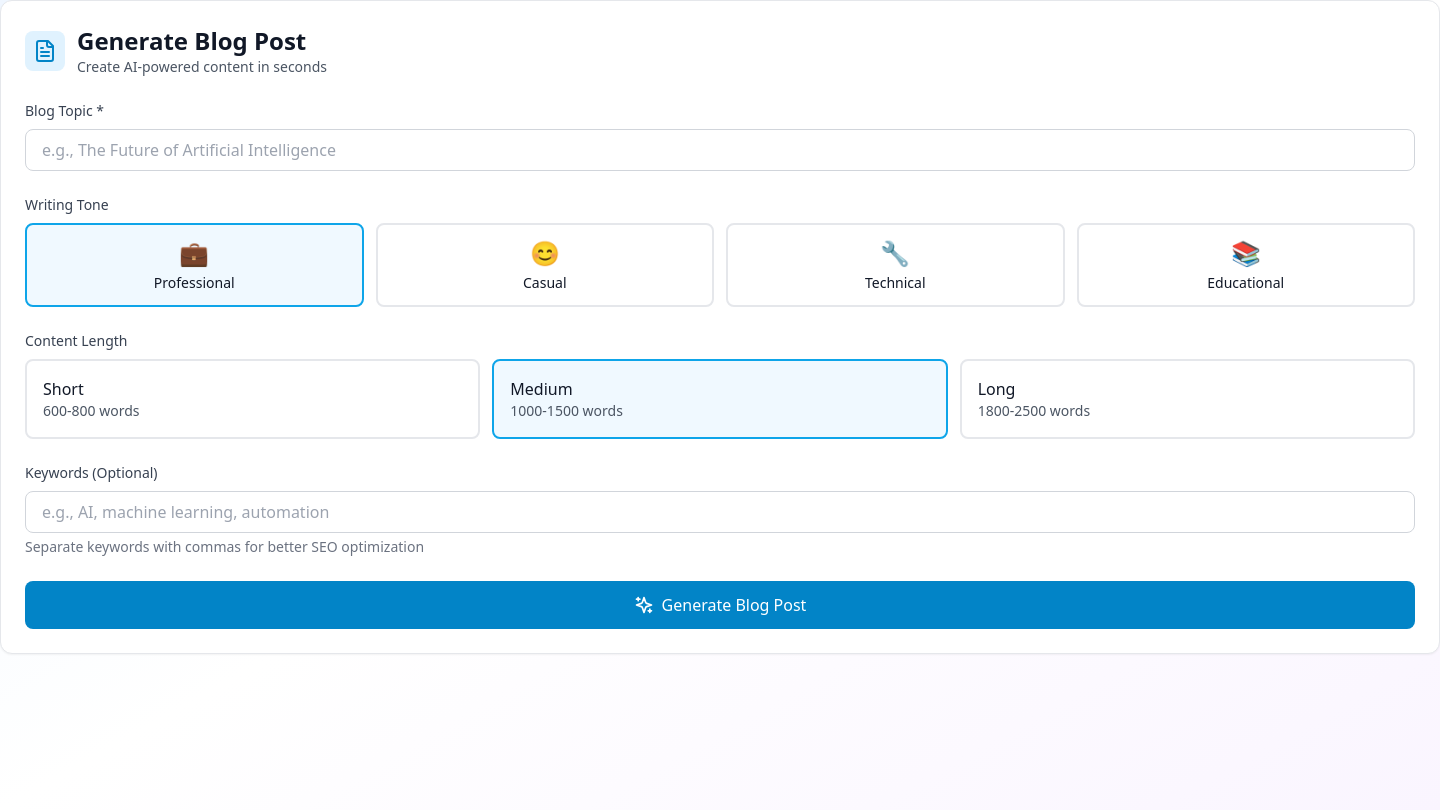
BlogForm › shows validation error for short topic
Type "AI" into the field labelled "Blog Topic *" at coordinates (720, 150), box [25, 129, 1415, 171]
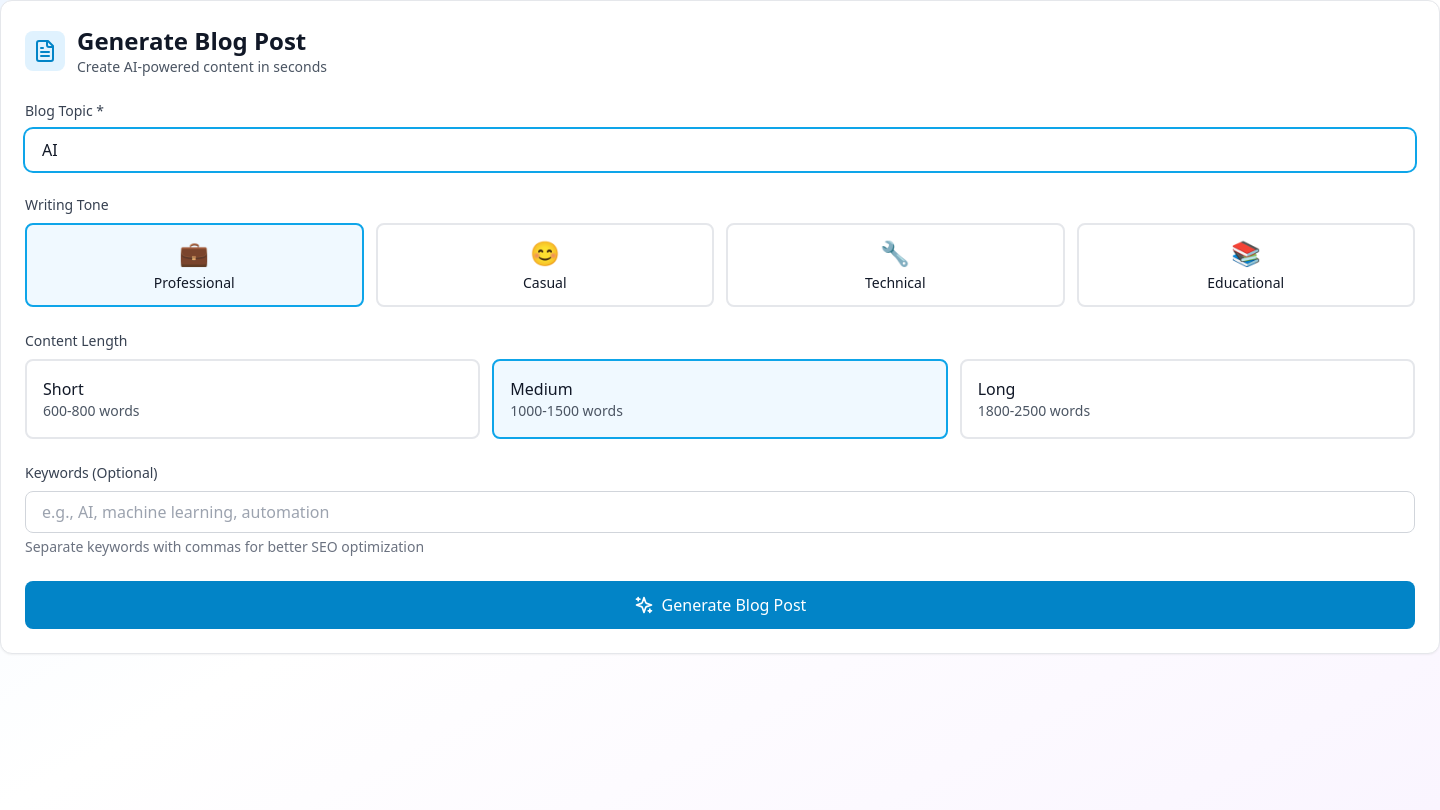
Click the button "Generate Blog Post" at coordinates (720, 605), box [25, 581, 1415, 629]
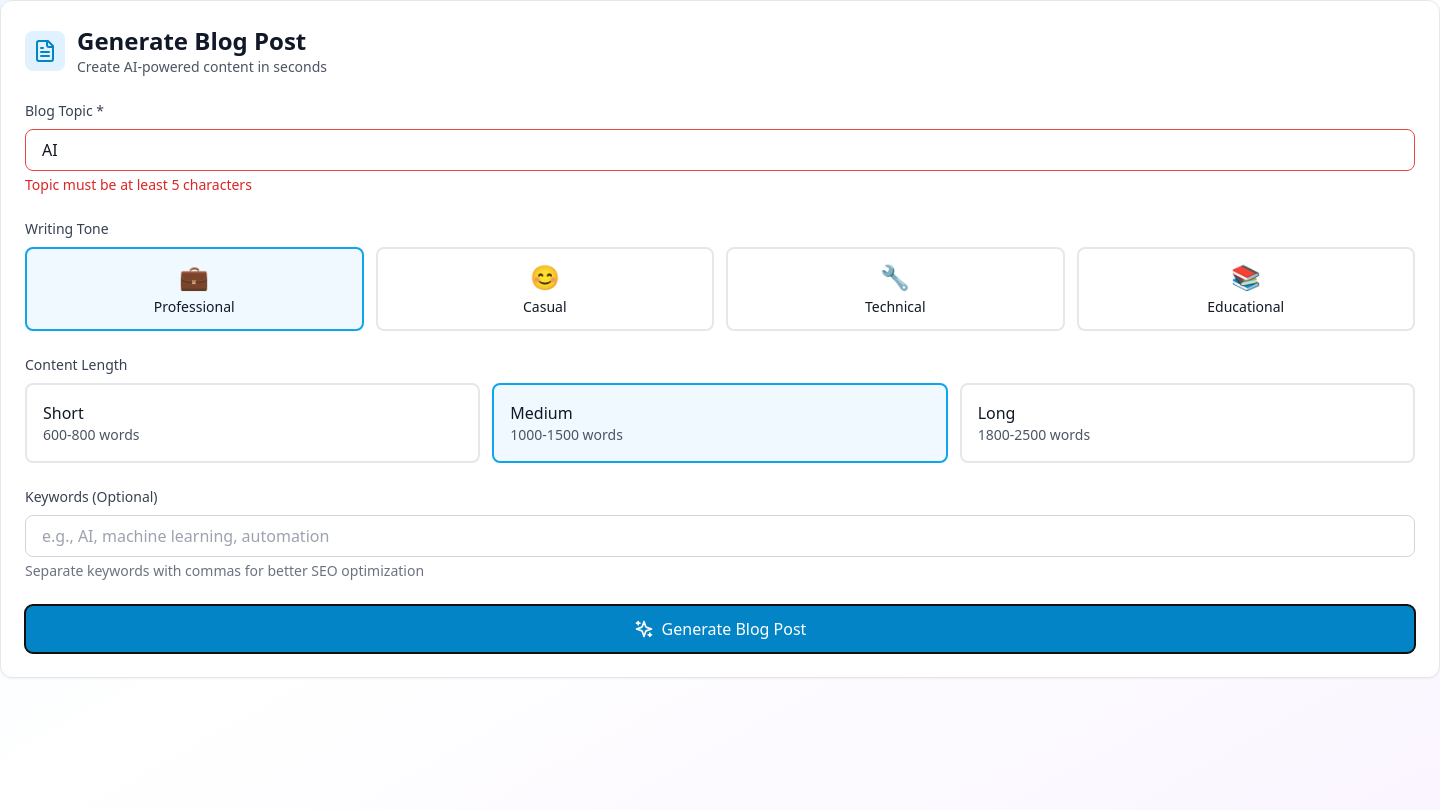
Expected: the text "Topic must be at least 5 characters" is shown, [25, 175, 252, 194]
